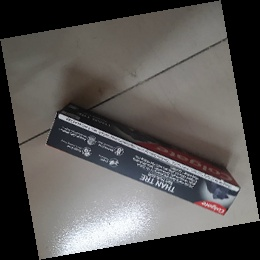Colgate Than: (43, 103, 242, 217)
